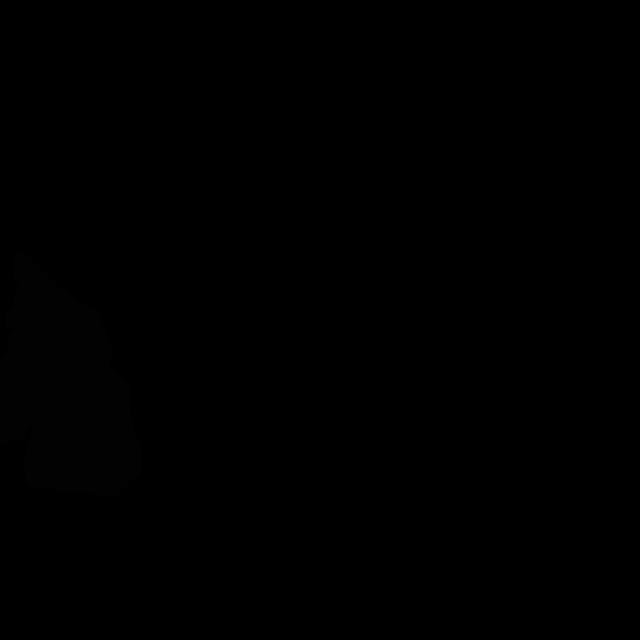cardboard: (0, 250, 142, 497)
